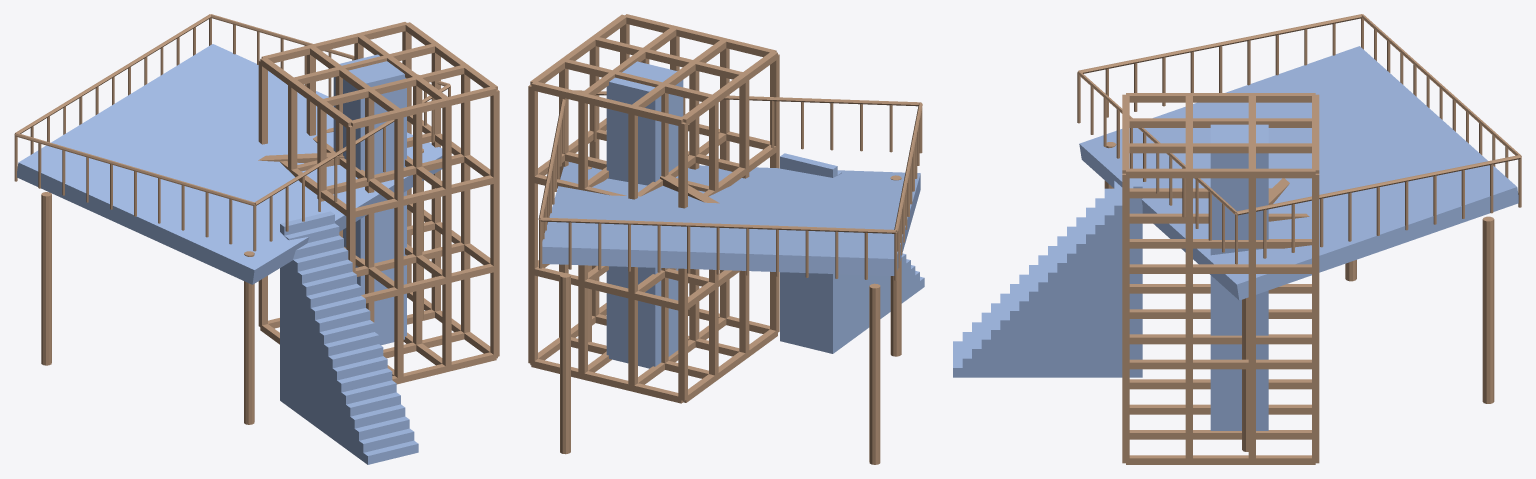
Rendered from folie_tag_029.glb.
3 views of the same model, side by side, from view 1: azimuth 30°, elevation 25°; view 2: azimuth 150°, elevation 25°; view 3: azimuth 270°, elevation 25° (orthographic). The views are drawn at different scales.
Visible parts, largest first — view 1: folie_tag_029_01_plate, folie_tag_029_00_cage, folie_tag_029_stairs, folie_tag_029_line, folie_tag_029_core; view 2: folie_tag_029_00_cage, folie_tag_029_01_plate, folie_tag_029_line, folie_tag_029_core, folie_tag_029_stairs; view 3: folie_tag_029_01_plate, folie_tag_029_00_cage, folie_tag_029_stairs, folie_tag_029_line, folie_tag_029_core.
Boxes of the visible parts, x1,y1,x2,y2 form: folie_tag_029_01_plate: [17, 44, 442, 284]; folie_tag_029_00_cage: [258, 22, 499, 384]; folie_tag_029_stairs: [280, 211, 418, 464]; folie_tag_029_line: [14, 14, 450, 424]; folie_tag_029_core: [333, 54, 406, 345]; folie_tag_029_00_cage: [528, 14, 779, 403]; folie_tag_029_01_plate: [542, 162, 920, 275]; folie_tag_029_line: [538, 90, 922, 464]; folie_tag_029_core: [606, 61, 683, 368]; folie_tag_029_stairs: [780, 153, 924, 353]; folie_tag_029_01_plate: [1079, 46, 1518, 300]; folie_tag_029_00_cage: [1122, 93, 1319, 464]; folie_tag_029_stairs: [953, 160, 1142, 377]; folie_tag_029_line: [1077, 14, 1521, 451]; folie_tag_029_core: [1210, 124, 1268, 430].
Bounding box in the file's own units: 8.94 × 6.14 × 10.8.
